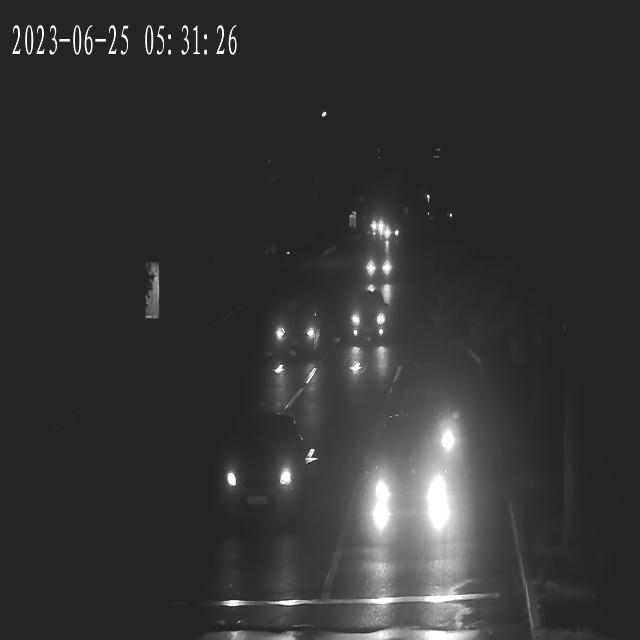Car: (359, 443, 448, 554), (222, 414, 305, 524), (401, 392, 460, 472), (269, 302, 322, 360), (348, 295, 384, 342), (366, 247, 392, 279), (381, 218, 400, 238), (372, 216, 382, 236)
